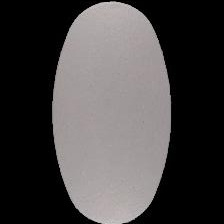51672-4053: (0, 0, 224, 224)
